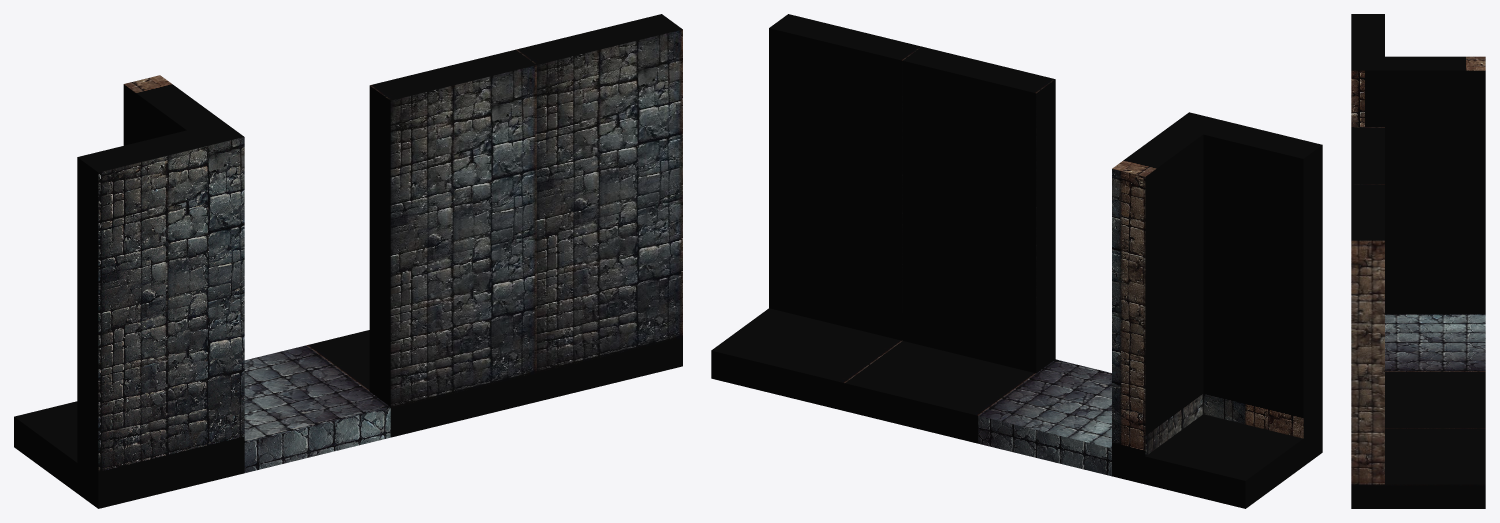
The model's file is Hero_Quest_Kit_1.gltf.
3 renders of one model, left to right at view 1: azimuth 30°, elevation 25°; view 2: azimuth 150°, elevation 25°; view 3: azimuth 270°, elevation 25°, orthographic. The views are drawn at different scales.
Parts seen in each view (by area): view 1: Corner, Wall, Wall.001, Tile_Floor; view 2: Corner, Wall, Wall.001, Tile_Floor; view 3: Corner, Wall.001, Wall, Tile_Floor.
Part boxes in pixels (left/top/right/bottom): Corner: left=14, top=75, right=244, bottom=508; Wall: left=307, top=49, right=536, bottom=437; Wall.001: left=516, top=14, right=682, bottom=401; Tile_Floor: left=244, top=345, right=390, bottom=472; Corner: left=1112, top=112, right=1322, bottom=508; Wall: left=844, top=46, right=1055, bottom=443; Wall.001: left=711, top=14, right=921, bottom=410; Tile_Floor: left=978, top=359, right=1111, bottom=476; Corner: left=1351, top=14, right=1485, bottom=314; Wall.001: left=1351, top=184, right=1485, bottom=508; Wall: left=1351, top=127, right=1485, bottom=427; Tile_Floor: left=1385, top=314, right=1485, bottom=370.
Bounding box in the file's own units: 4 × 2.2 × 1.
3 materials, 3 textured.
